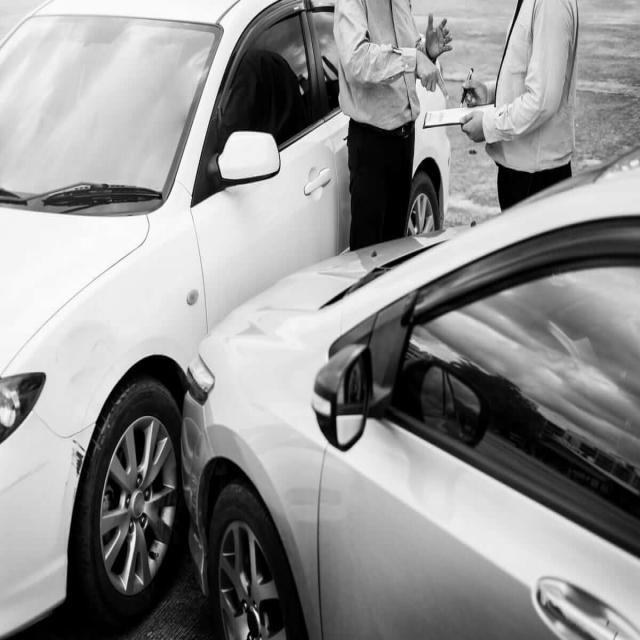scratch: (71, 448, 84, 477), (72, 438, 86, 452), (72, 487, 77, 502)
